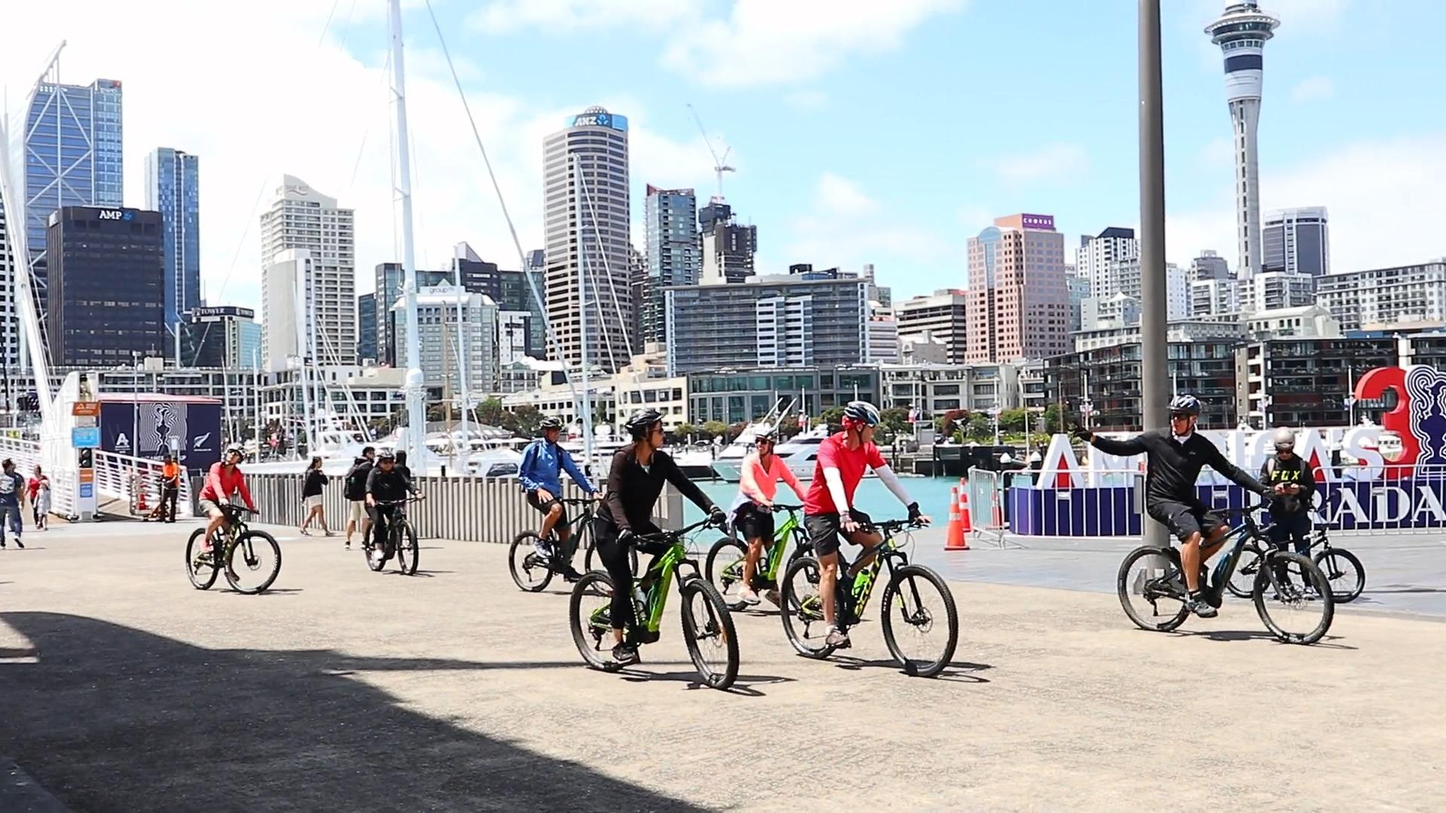bicyclist: (1067, 395, 1333, 645), (779, 401, 959, 678), (570, 407, 739, 690), (706, 426, 848, 612), (509, 416, 639, 596), (185, 442, 282, 595), (364, 451, 428, 576)
helmet: (624, 407, 665, 453), (842, 401, 881, 447), (1166, 394, 1200, 436), (755, 425, 778, 458), (1274, 426, 1295, 460), (538, 416, 563, 444), (223, 442, 246, 465)
